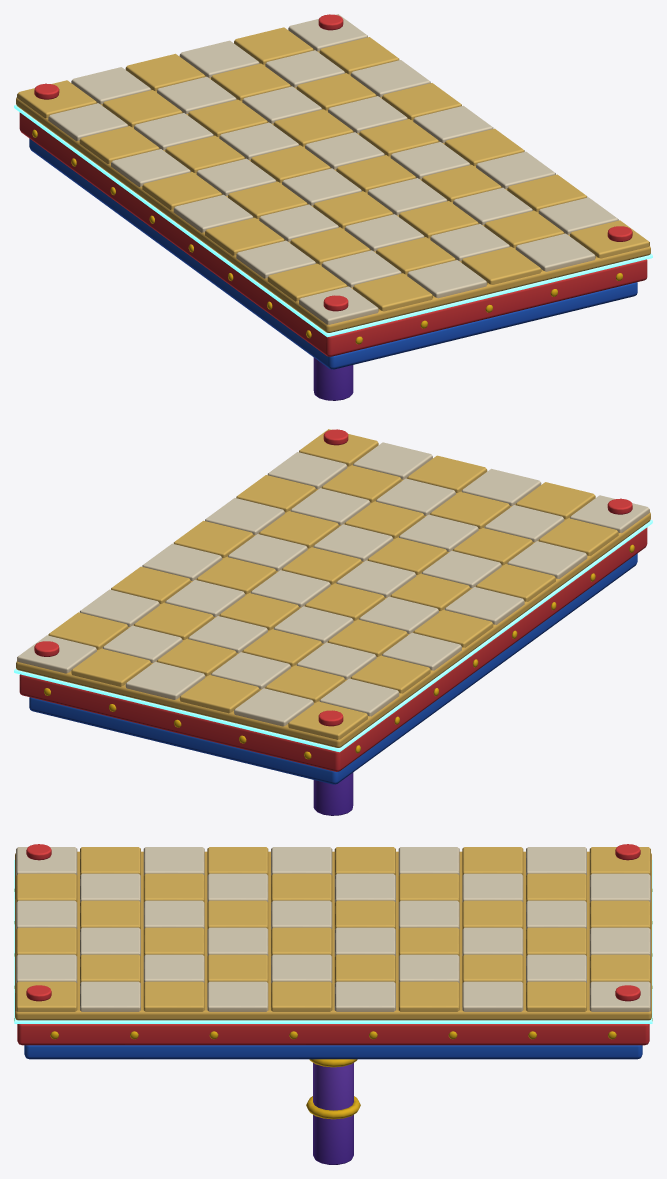
The model's file is PLAT_Toy_L.glb.
The picture shows the model from 3 angles, top to bottom: view 1: azimuth 30°, elevation 25°; view 2: azimuth 150°, elevation 25°; view 3: azimuth 270°, elevation 25°; orthographic projection.
Visible parts, largest first — view 1: Body, EdgeGlow; view 2: Body, EdgeGlow; view 3: Body, EdgeGlow.
Boxes of the visible parts, <box> form: Body: <box>16,14,650,400</box>; EdgeGlow: <box>14,105,652,337</box>; Body: <box>16,429,650,815</box>; EdgeGlow: <box>14,520,652,752</box>; Body: <box>14,844,652,1164</box>; EdgeGlow: <box>14,860,652,1023</box>.
Bounding box in the file's own units: 6.03 × 4.12 × 10.03.
